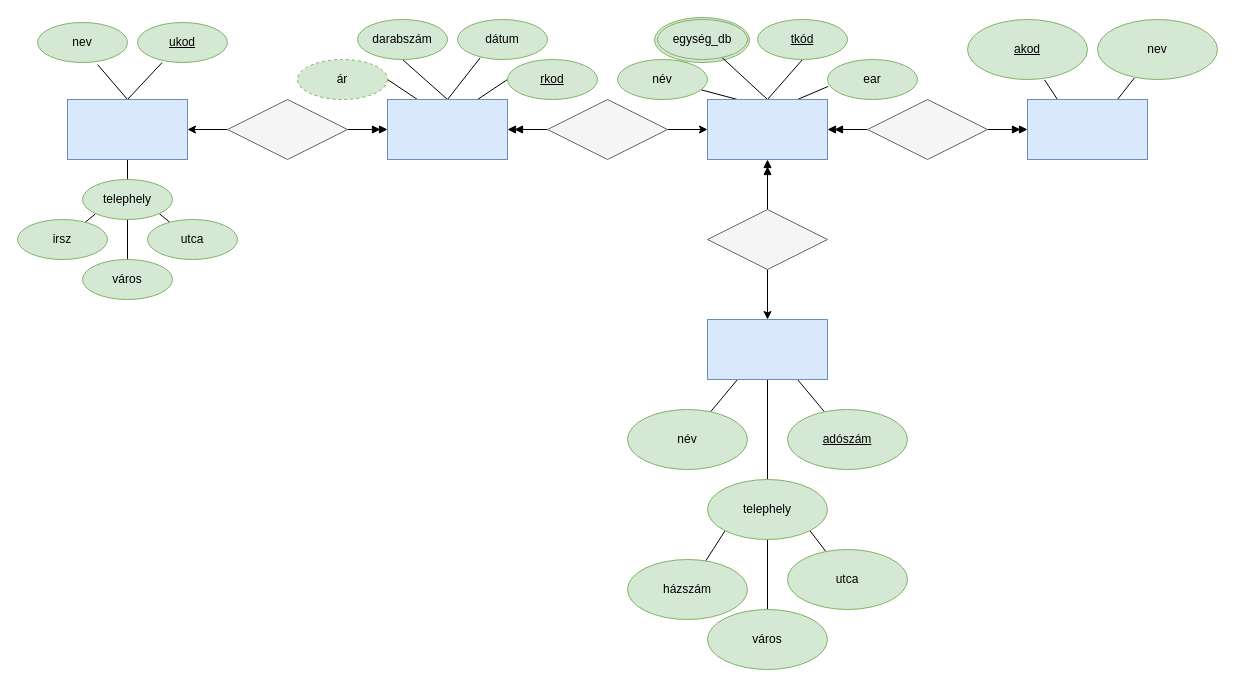
The diagram is 1235 pixels wide and 687 high, and some of its shapes have lost their labels. Each missing label, with the centre of its shape:
"alkatrész" belongs at (x=1087, y=129).
"gyártó" belongs at (x=767, y=349).
"rendelés" belongs at (x=447, y=129).
"termék" belongs at (x=767, y=129).
"vevő" belongs at (x=127, y=129).
